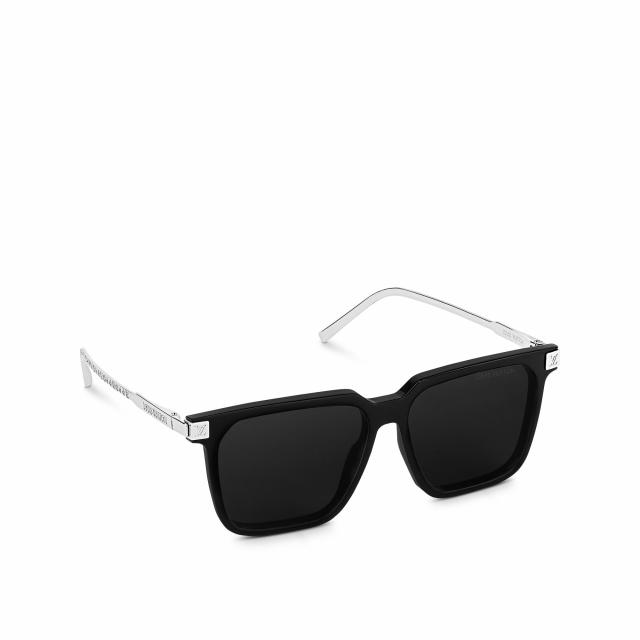suspicious-objects: (189, 335, 546, 536)
